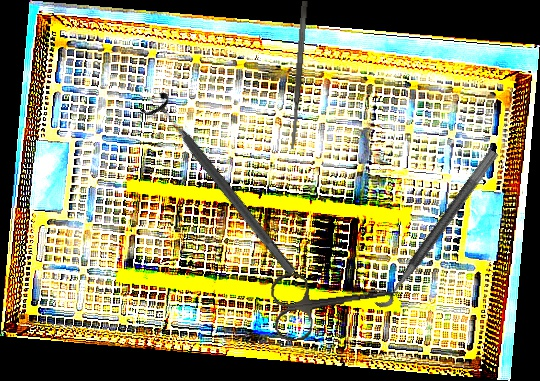Fixation Ring: (138, 88, 307, 285), (363, 138, 500, 313)
Iris Scissors: (268, 260, 404, 343)
Spatula Surgical: (288, 0, 309, 150)
